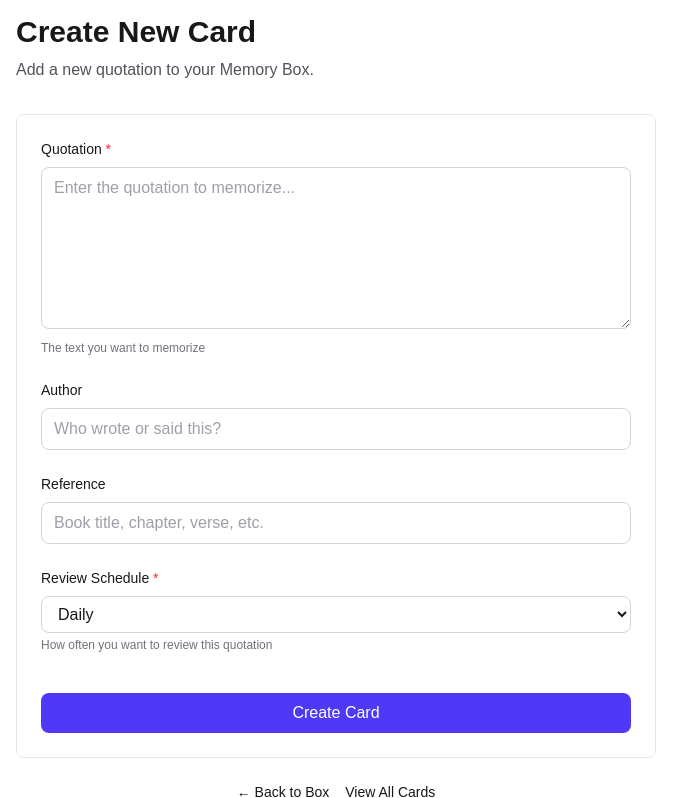
NewCardPage › should clear error when creating a new card after a failed attempt
Type "Test quotation" into the text box labelled "Quotation *" at x=336, y=248, box [41, 167, 631, 329]
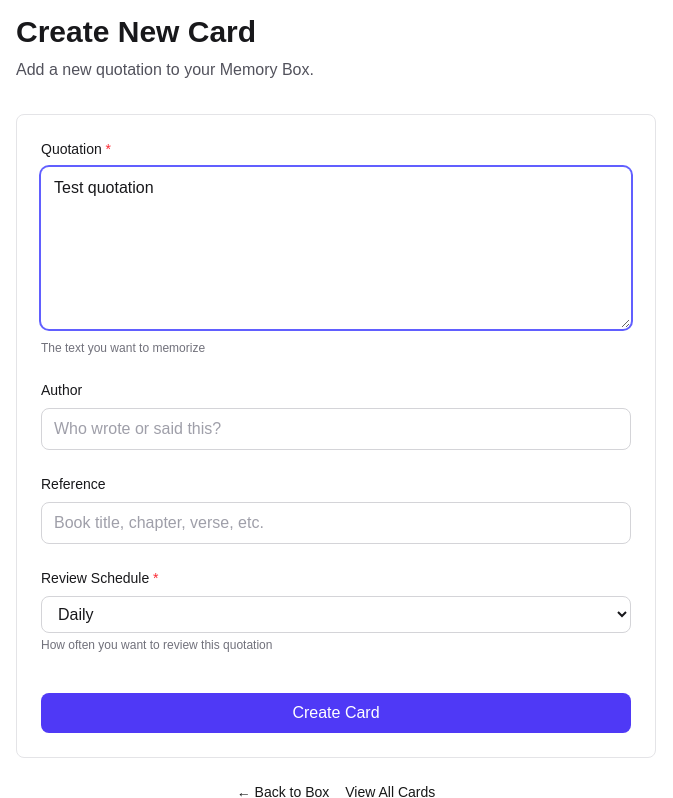
Click the button "Create Card" at x=336, y=713, box [41, 693, 631, 733]
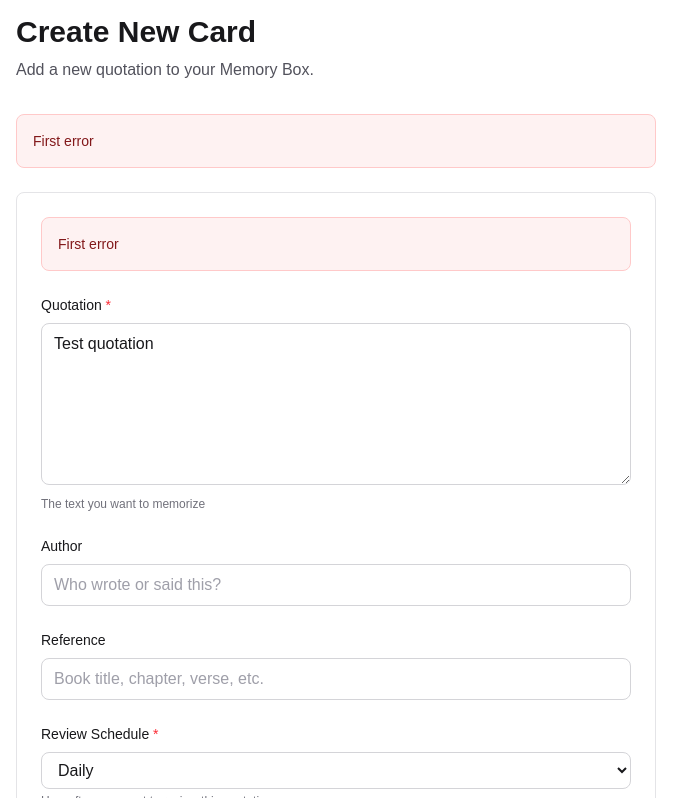
Expected: the 1st text "First error" is shown, [33, 133, 94, 149]
Clear the form and try again
Replace the text in the text box labelled "Quotation *" with "Test quotation retry" at x=336, y=404, box [41, 323, 631, 485]
(page scrolled)
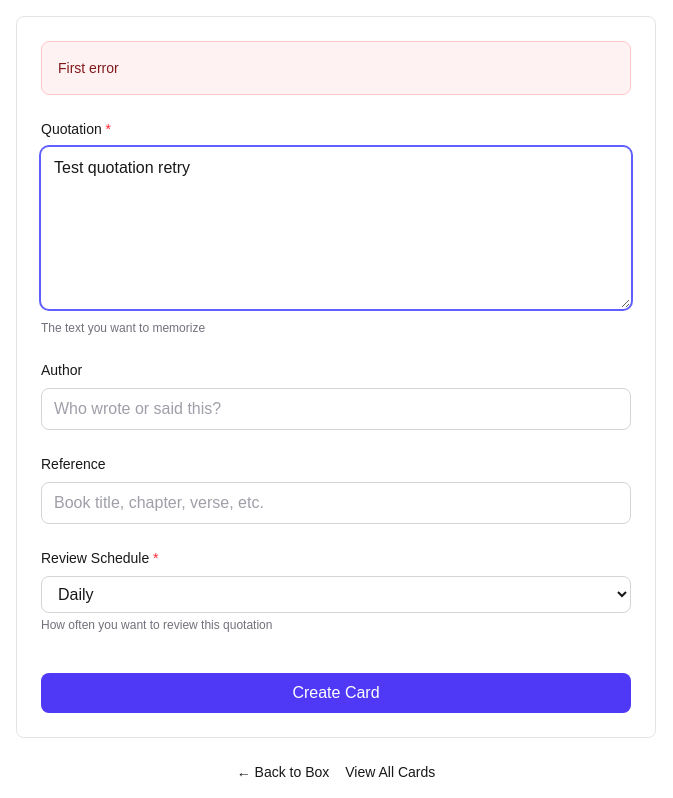
Click the button "Create Card" at x=336, y=693, box [41, 673, 631, 713]
(page scrolled)
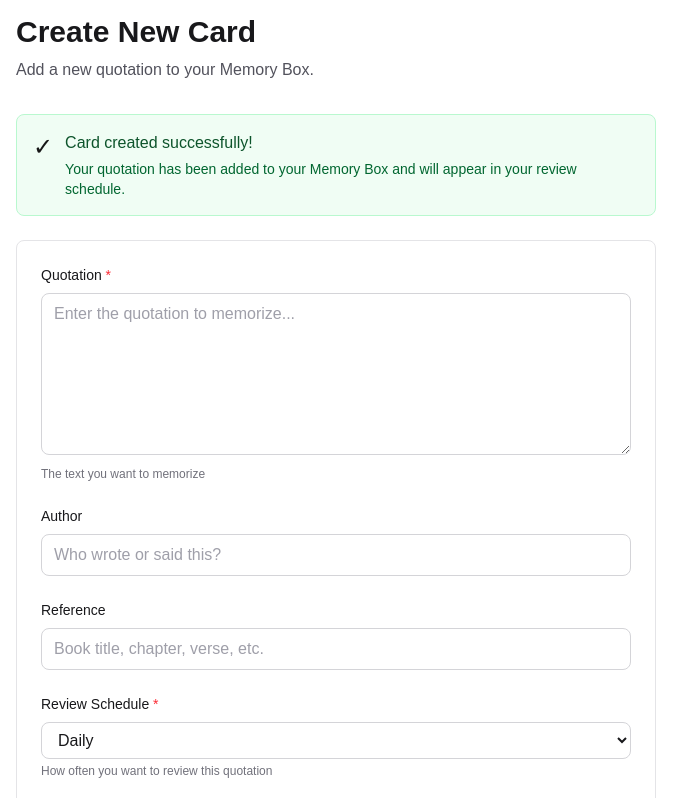
Expected: the text "First error" is gone
Expected: the text "Card created successfully!" is shown, [65, 134, 253, 151]
